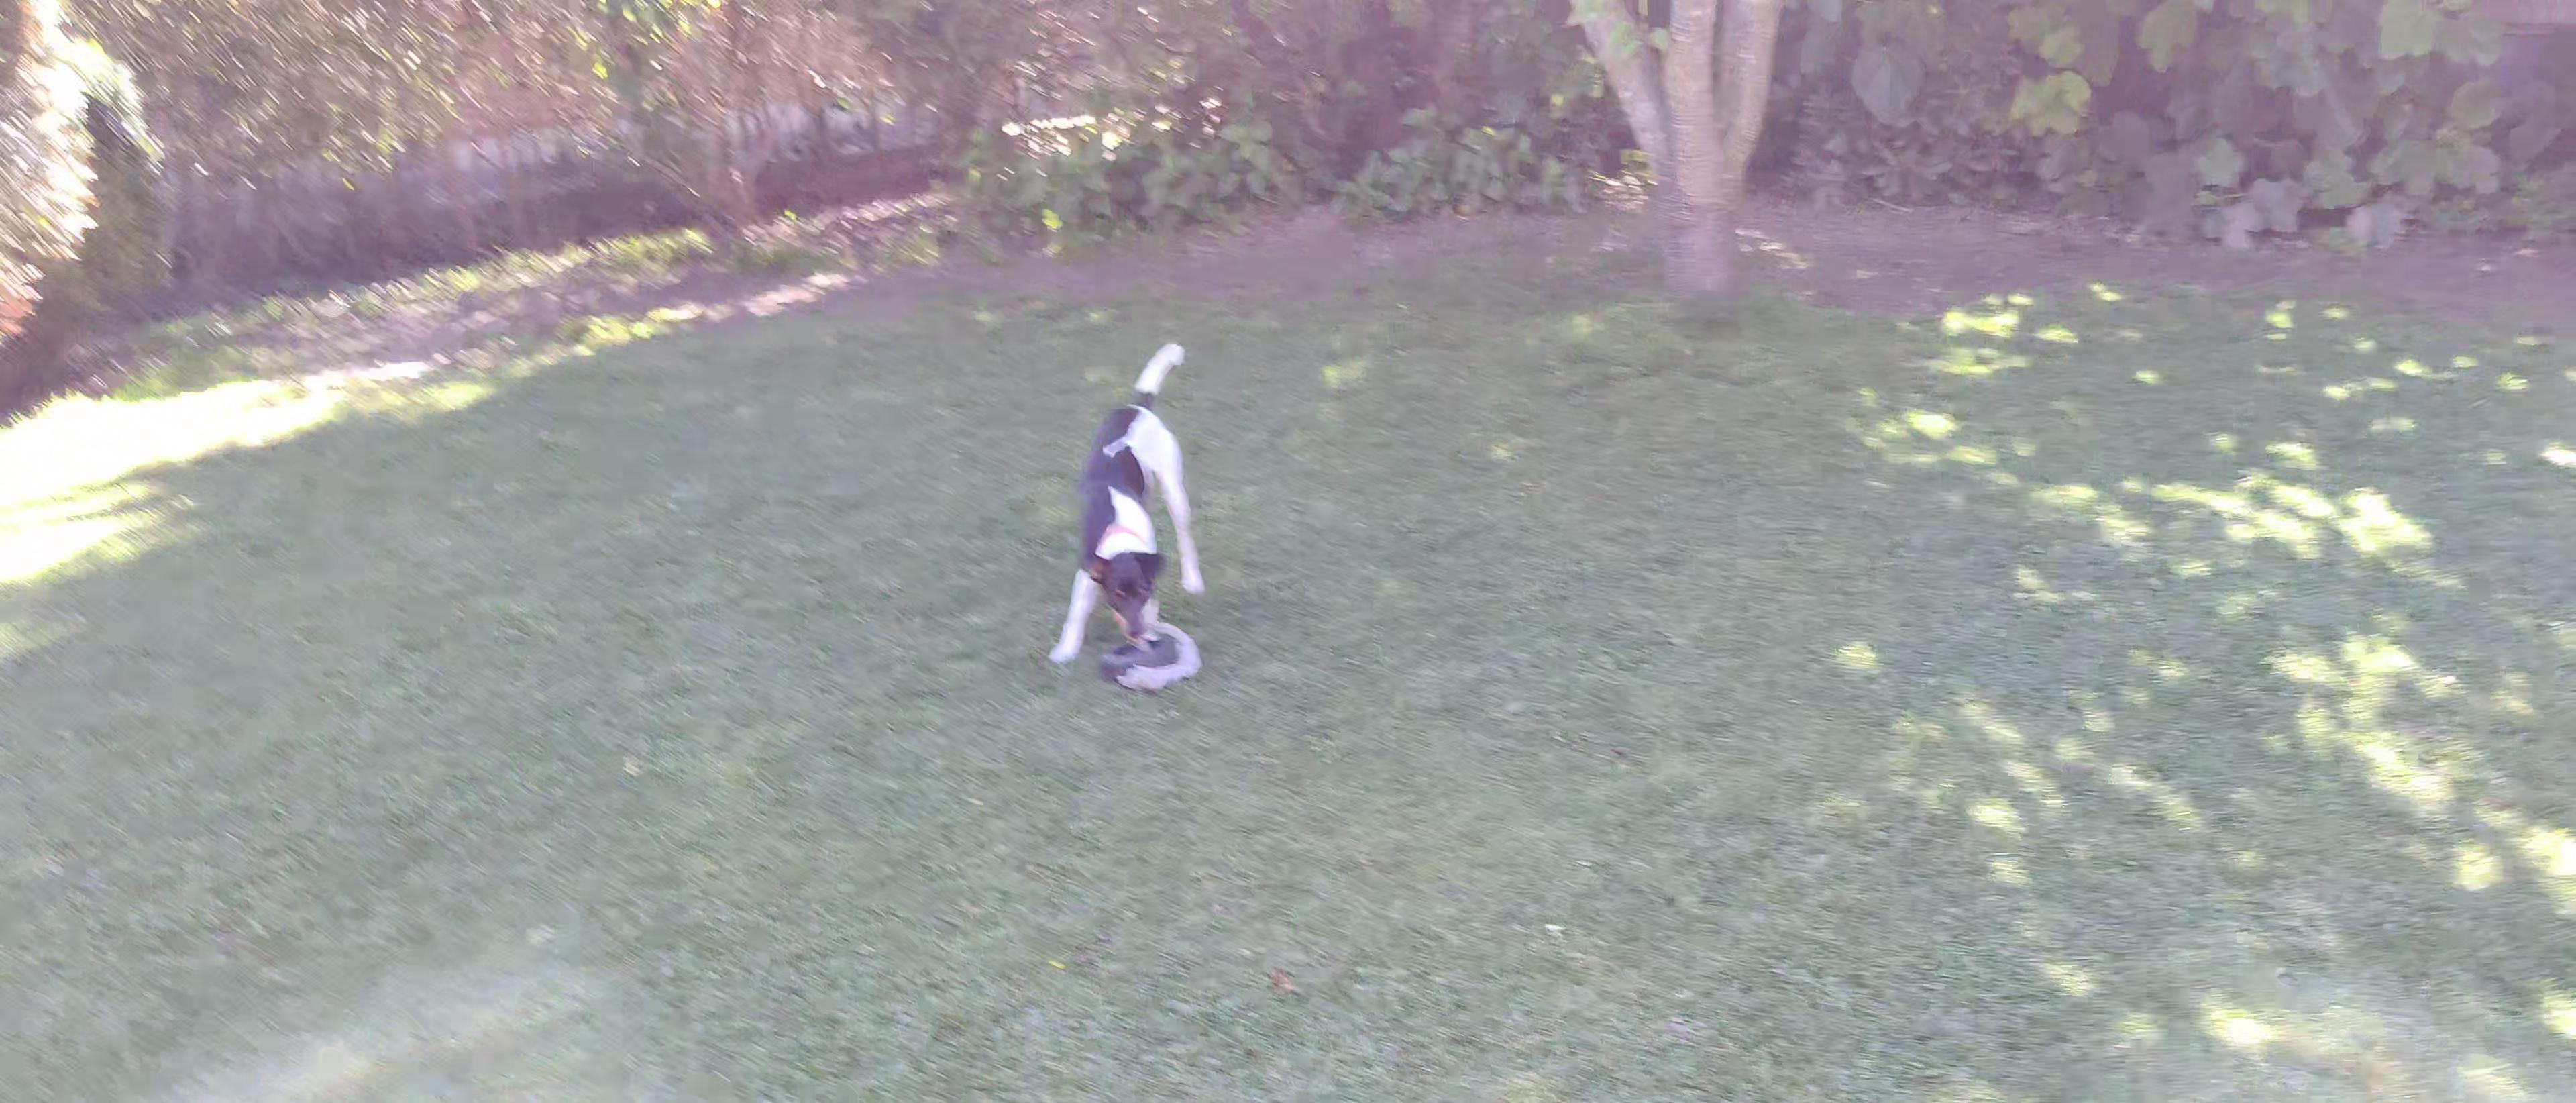Dog: (1045, 340, 1207, 662)
